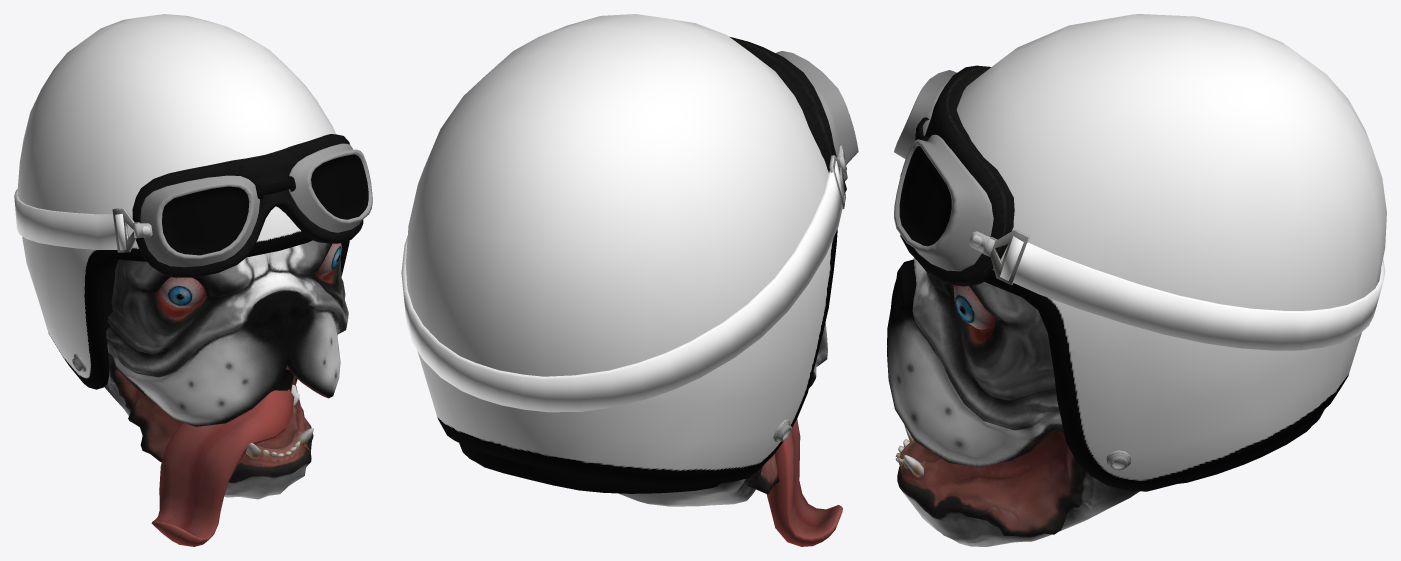
Rendered from SurvivorMale_Head_Mask_DogRacer_LOD0.glb.
3 views of the same model, side by side, from view 1: azimuth 30°, elevation 25°; view 2: azimuth 150°, elevation 25°; view 3: azimuth 270°, elevation 25° (orthographic). The views are drawn at different scales.
Parts seen in each view (by area): view 1: Hoodie; view 2: Hoodie; view 3: Hoodie.
Boxes of the visible parts, x1,y1,x2,y2 form: Hoodie: (14,14,372,546); Hoodie: (401,14,858,546); Hoodie: (887,14,1386,546).
Size of the model in its own units: 0.2129 by 0.3154 by 0.2666.
1 material, 1 textured.
